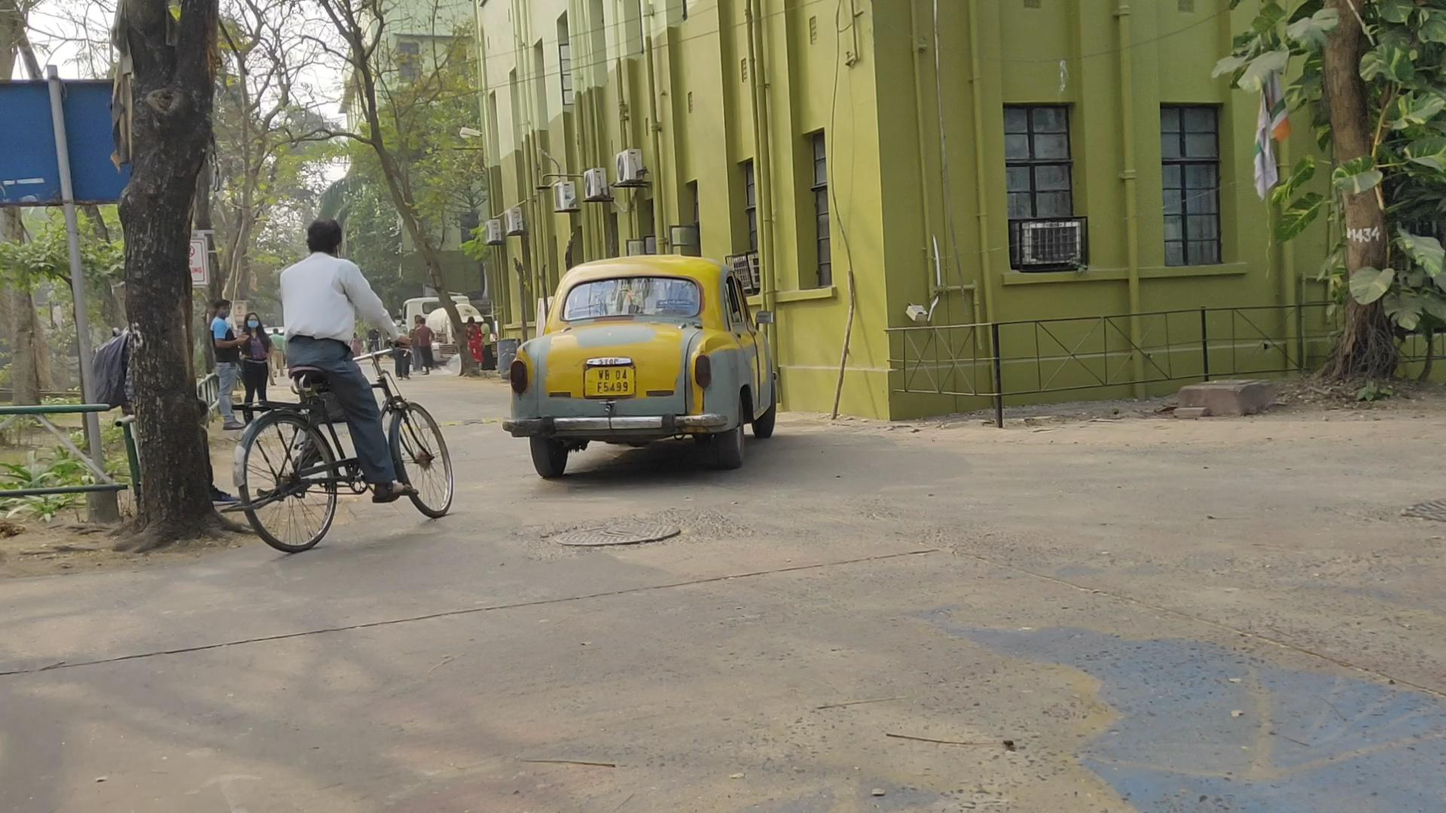bike: (221, 217, 454, 553)
car: (502, 253, 777, 480)
